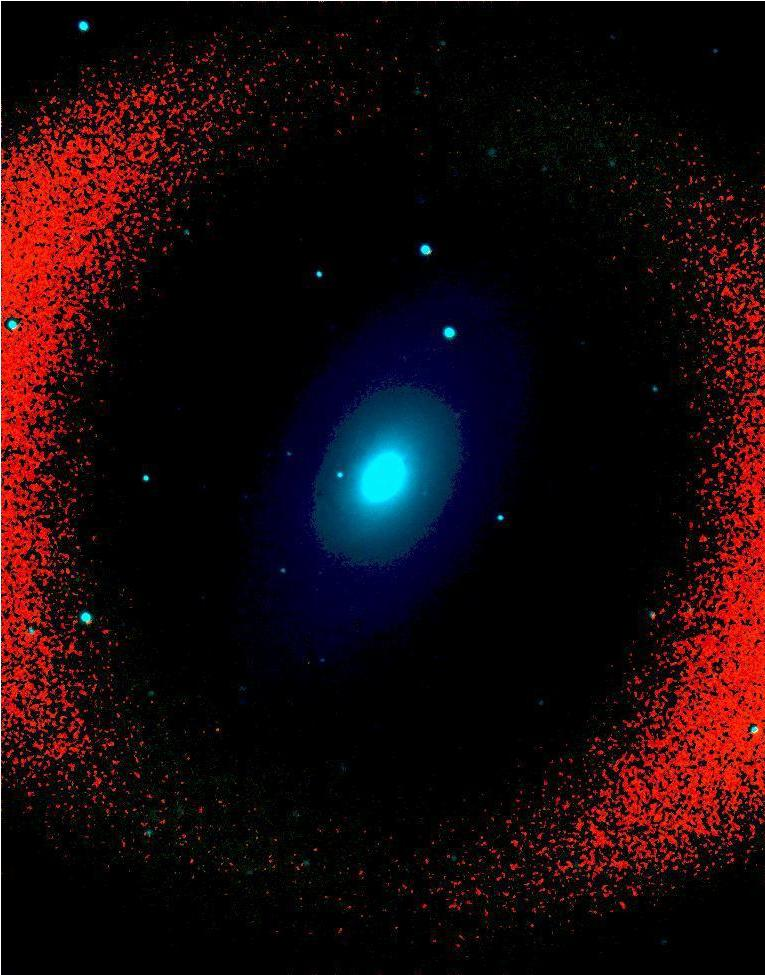star: (201, 716, 231, 746)
